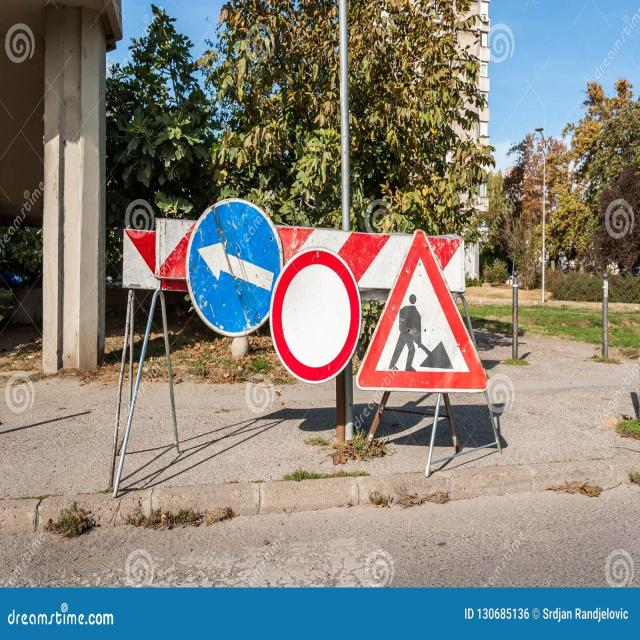cone: (109, 206, 502, 497)
